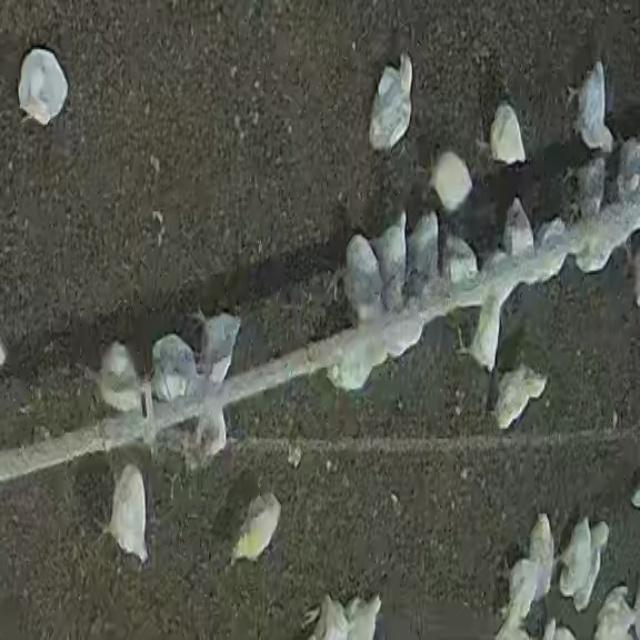chicken: (370, 54, 417, 152), (106, 464, 150, 567), (87, 340, 144, 416), (568, 60, 614, 154), (323, 330, 387, 394), (18, 48, 68, 126), (230, 492, 282, 564), (195, 312, 242, 388), (494, 364, 548, 430), (343, 235, 382, 322), (150, 333, 198, 403), (373, 212, 407, 310), (557, 516, 595, 603), (578, 521, 612, 610), (524, 514, 555, 608), (470, 292, 505, 374), (407, 210, 439, 298), (430, 150, 473, 213), (571, 155, 605, 233), (489, 102, 527, 166), (502, 197, 534, 261), (443, 233, 479, 287), (506, 558, 534, 625), (536, 218, 563, 282), (615, 136, 640, 198)
